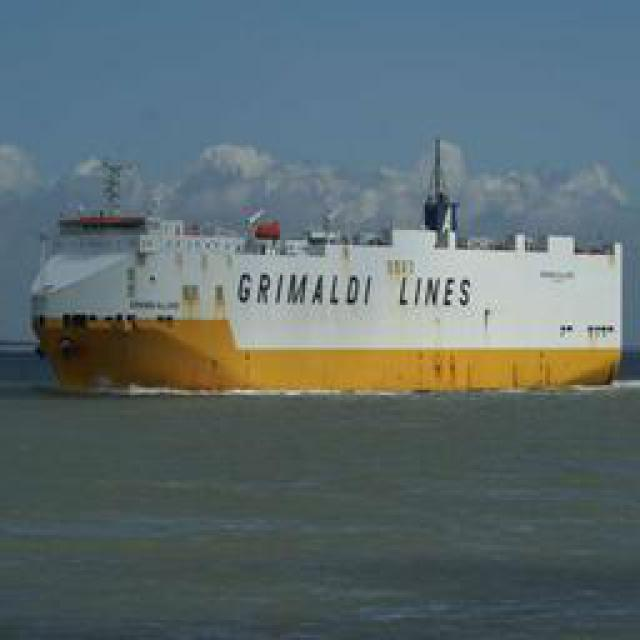Ship: (31, 141, 639, 389)
